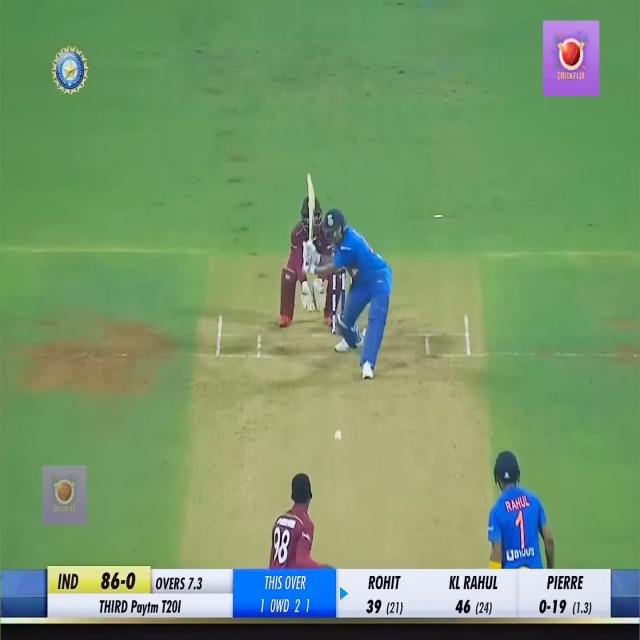fully_visible: (130, 598, 160, 620)
